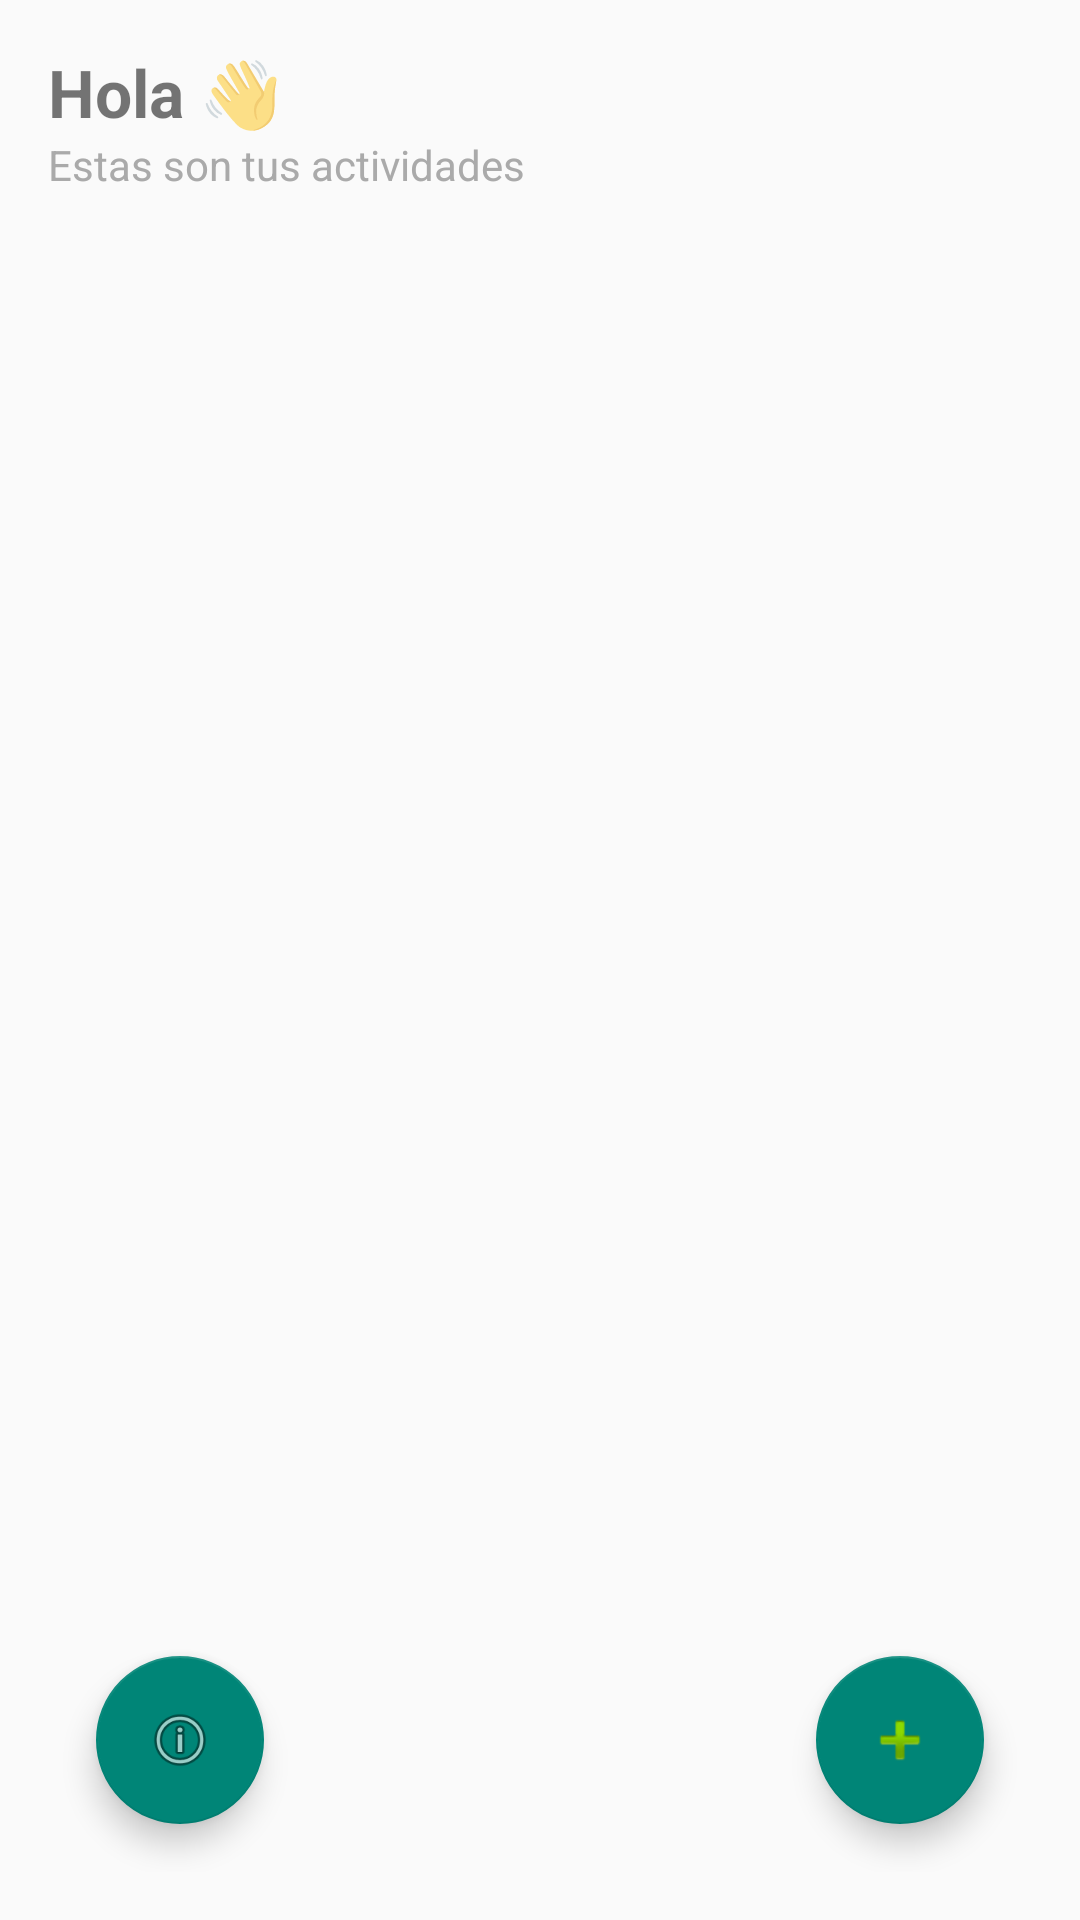

Screen size 1080 × 1920. Icon name, then its box in pixels as bbox=[x1, y1, x2, y2]:
Agregar actividad: bbox=[816, 1656, 984, 1824]
Ir a detalle: bbox=[96, 1656, 264, 1824]
